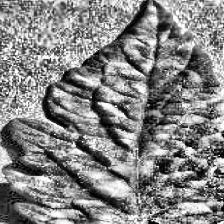leaf mold: (1, 0, 224, 224)
